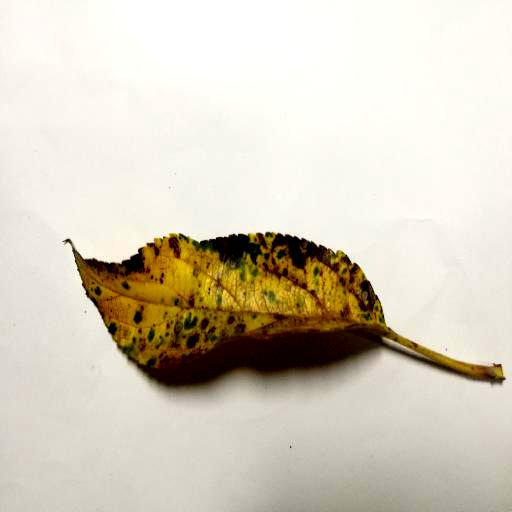Brown_Spot: (79, 258, 358, 345)
